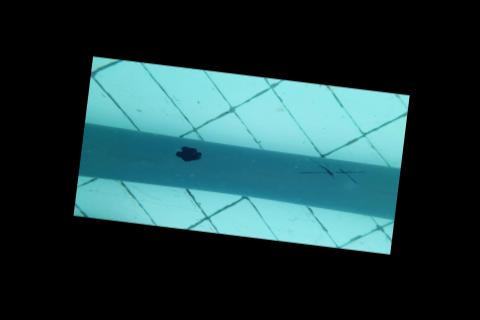kebocoran: (170, 143, 202, 165)
keretakan: (295, 158, 363, 186)
